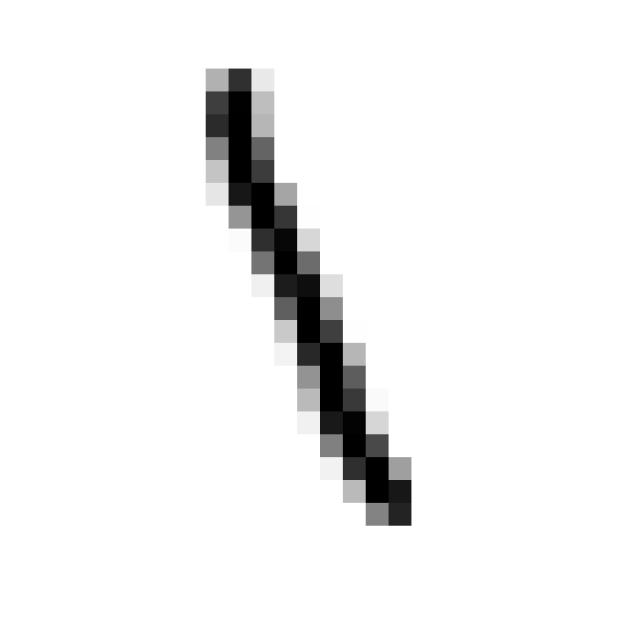1 -one-: (185, 48, 429, 554)
